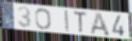3: (18, 5, 32, 29)
4: (111, 15, 126, 38)
A: (90, 12, 112, 37)
I: (64, 9, 70, 33)
O: (35, 8, 53, 31)
T: (73, 10, 88, 34)
